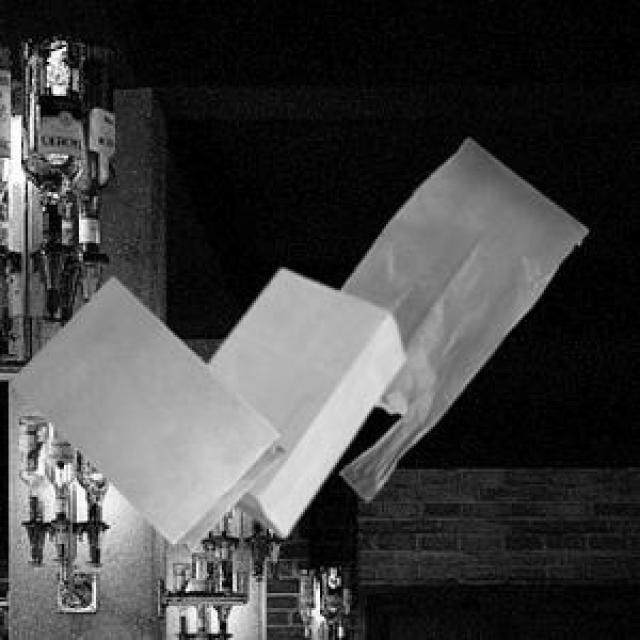paper: (6, 273, 282, 548), (203, 265, 401, 533)
